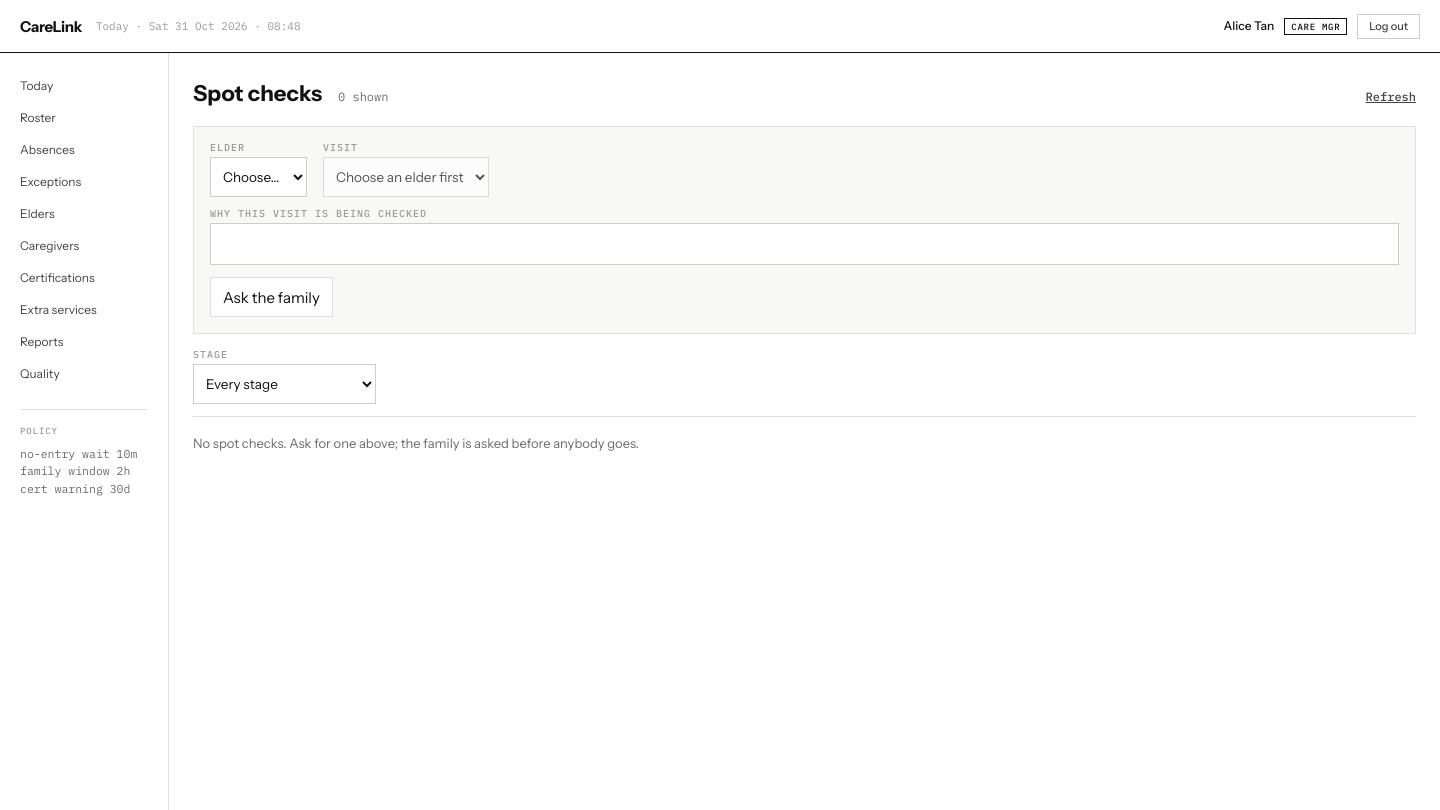
Test case: asks the family about a visit chosen from the elder
This screenshot has width=1440, height=810.
Step 1. Select "Mdm Tan" in the dropdown labelled "Elder" → [258, 177], box [210,157,307,197]
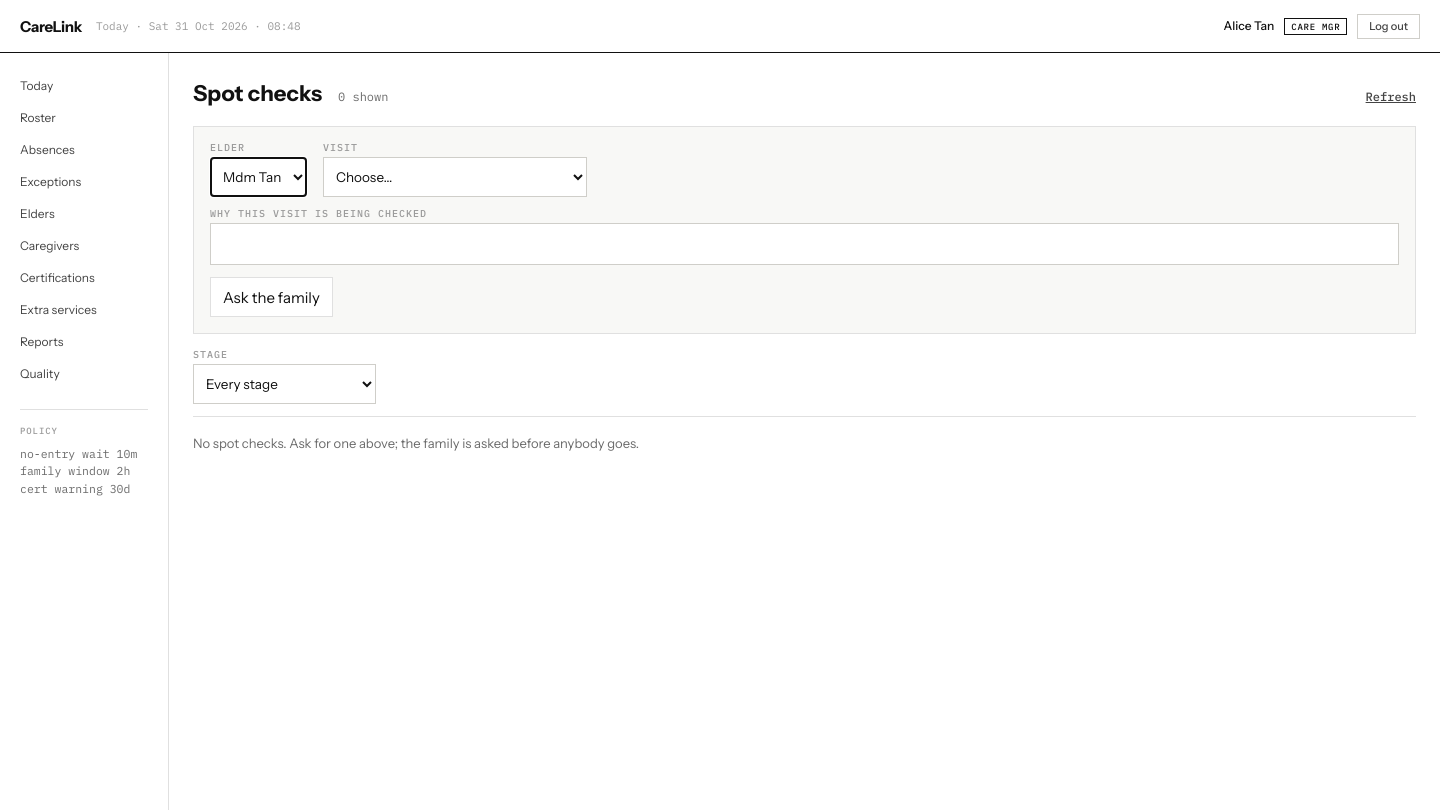
Step 2. Select "Fri 9 Oct, 10:00 · Aisha · Personal care" in the dropdown labelled "Visit" → [455, 177], box [323,157,587,197]
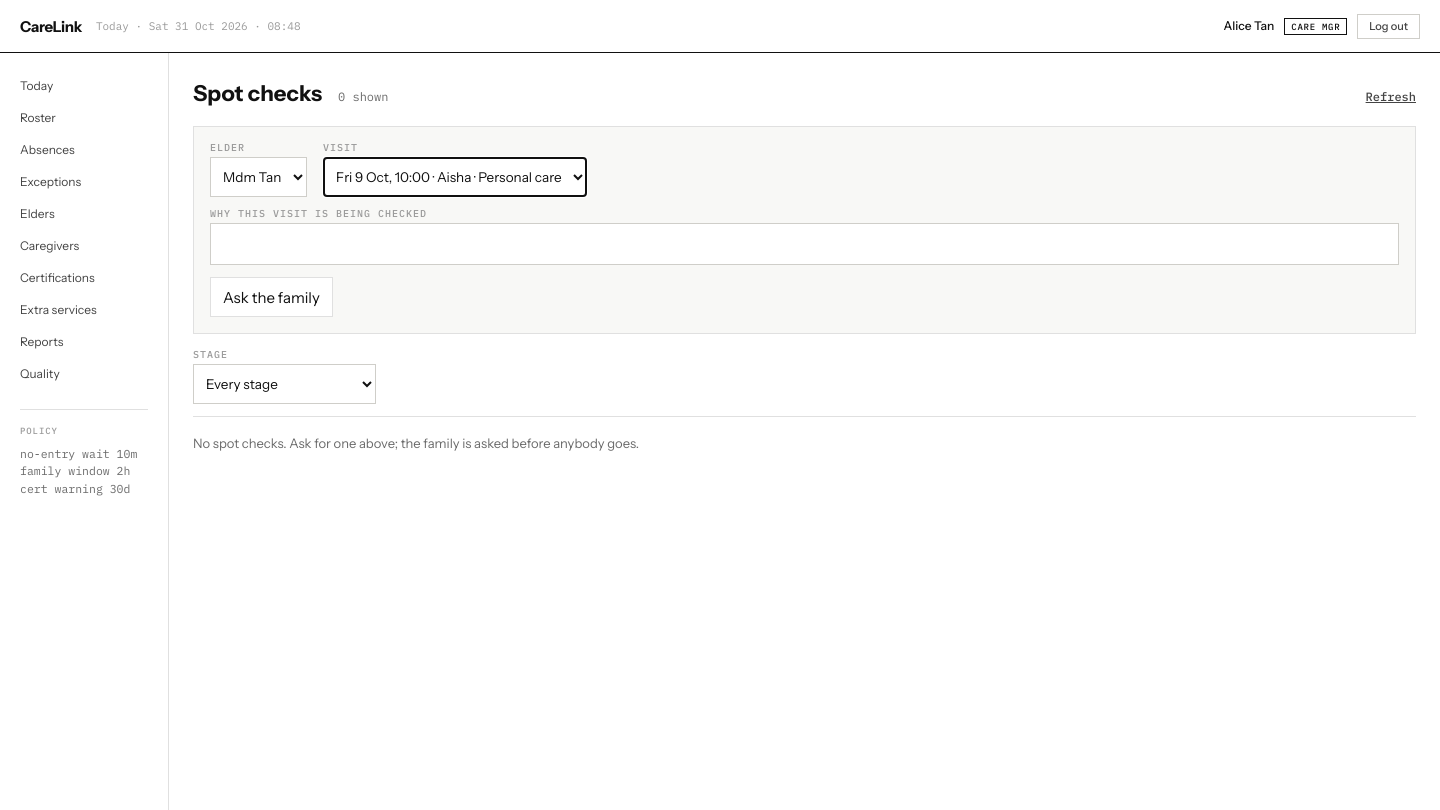
Step 3. Type "Routine" into the field labelled "Why this visit is being checked" → [804, 244], box [210,223,1399,265]
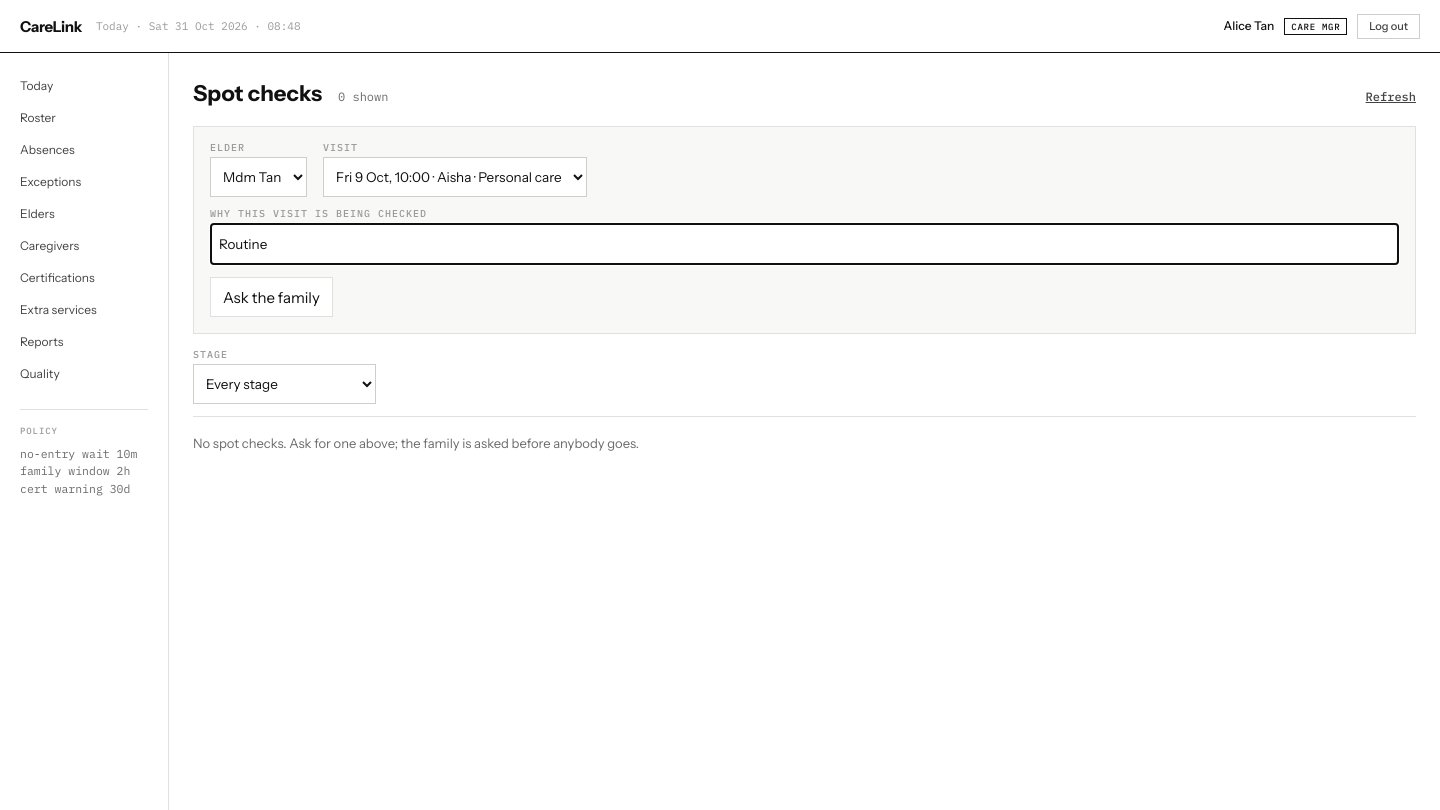
Step 4. Click the button "Ask the family" → [271, 297], box [210,277,333,317]
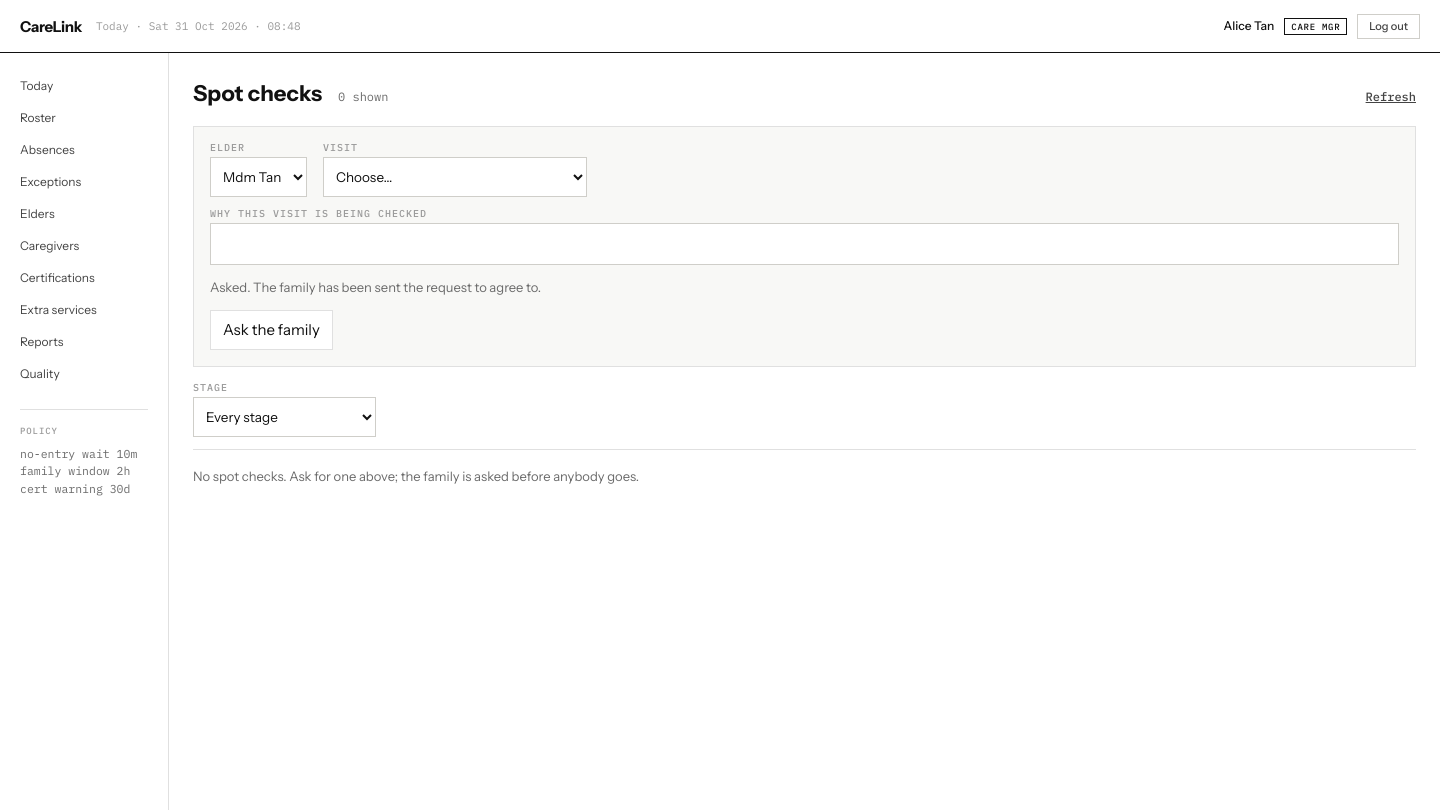
Expected: the text "No spot checks" is shown, [193,468,639,484]
Expected: the text "Asked. The family has been sent the request to agree to." is shown, [210,279,541,295]
